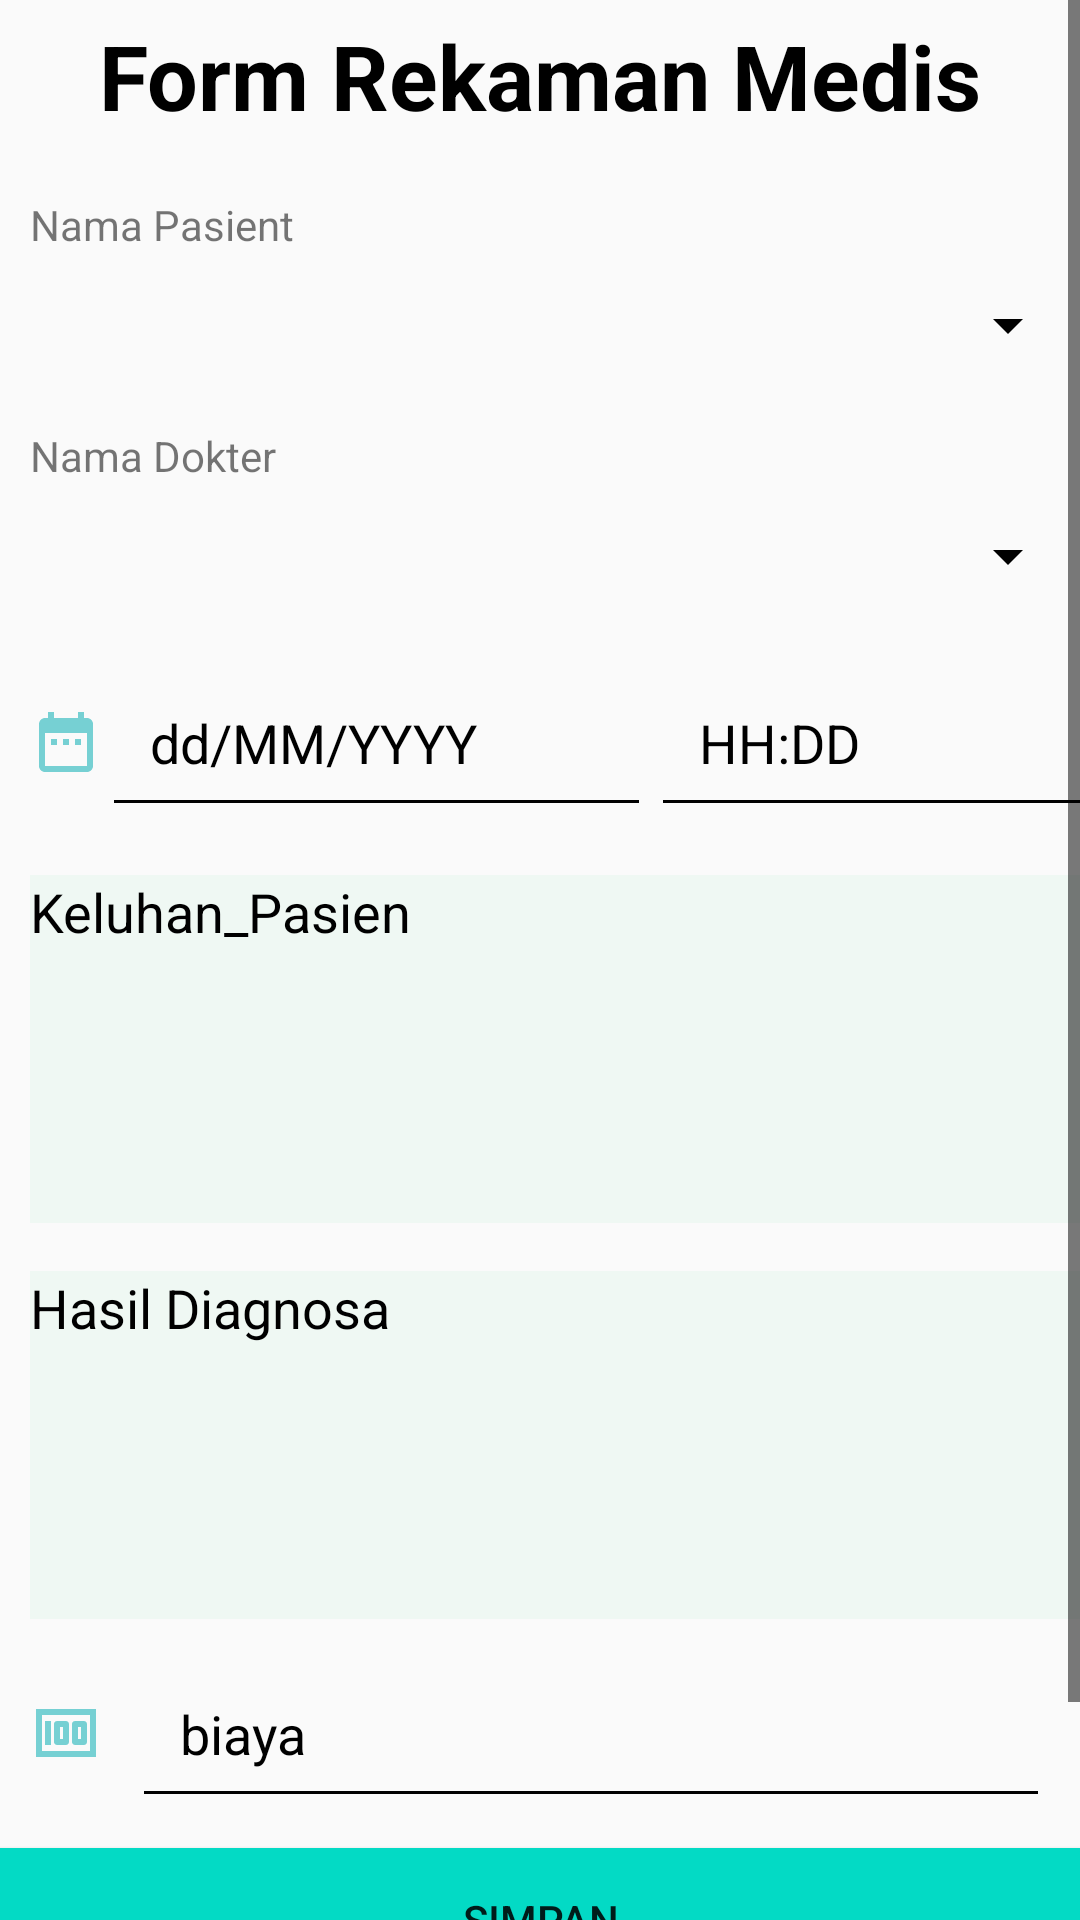

Named icons in this screenshot (1080×1920) and their bounding boxes, (x1, y1, x2, y2):
money: (36, 1709, 96, 1757)
tgllahir: (39, 712, 93, 772)
